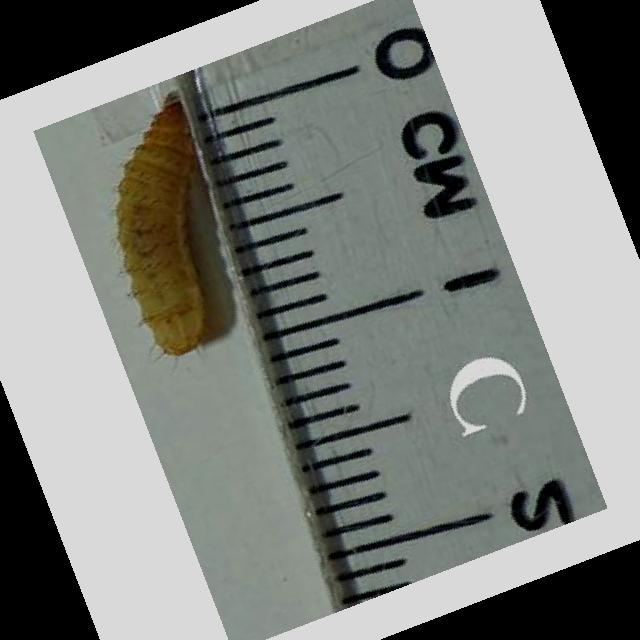Maggot: (116, 84, 200, 360)
